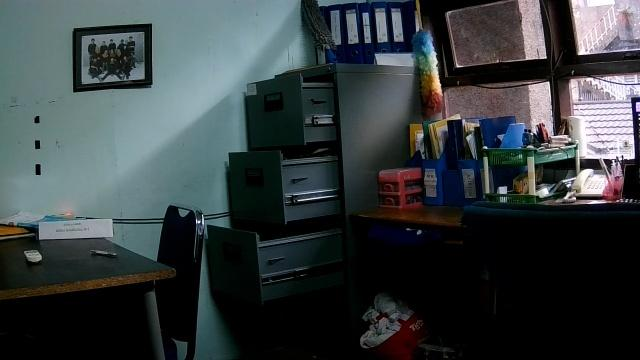Lemari: (206, 62, 352, 309)
Meja: (0, 223, 178, 358)
